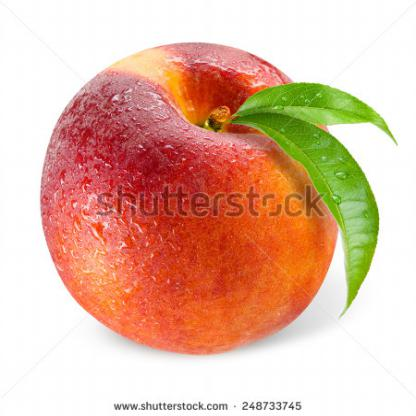peach leaf: (235, 113, 378, 314), (239, 78, 398, 143)
